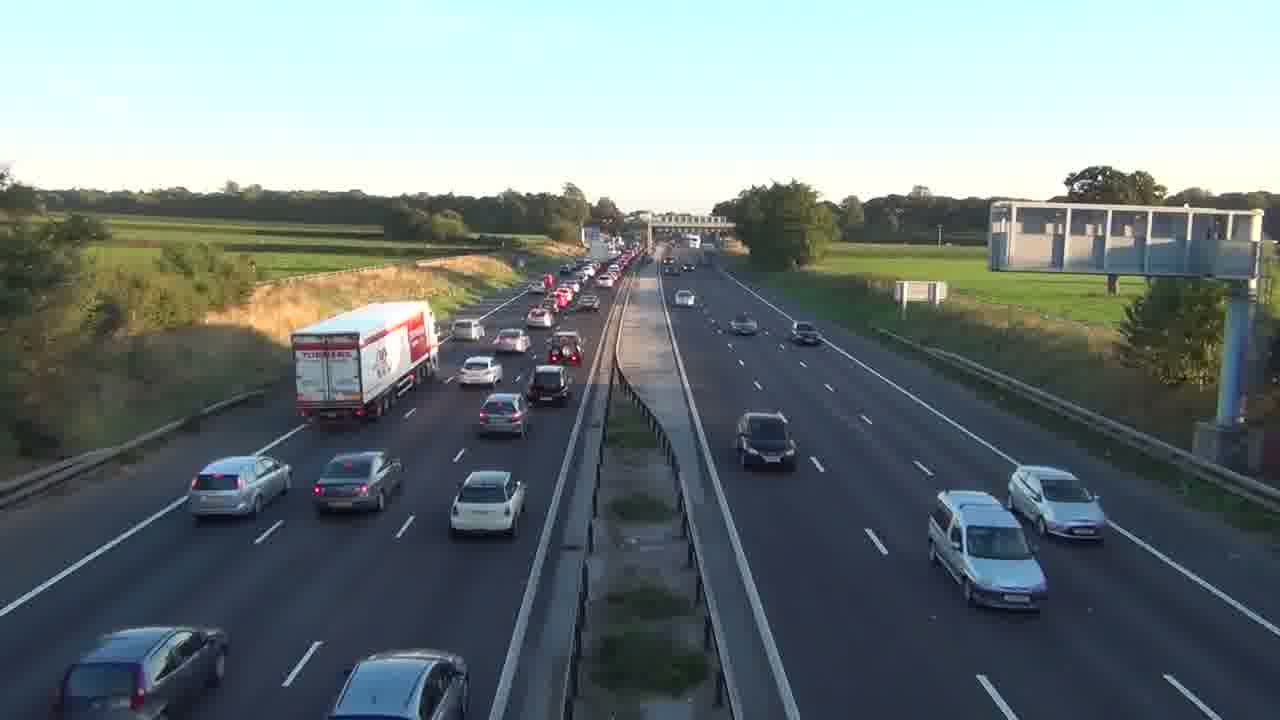car: (49, 624, 230, 718), (327, 648, 470, 718), (1007, 464, 1107, 543), (188, 454, 293, 519), (311, 449, 403, 515), (448, 468, 529, 537), (477, 391, 531, 439), (456, 354, 503, 389)
truck: (290, 300, 438, 422), (927, 489, 1050, 611), (735, 409, 799, 472)
